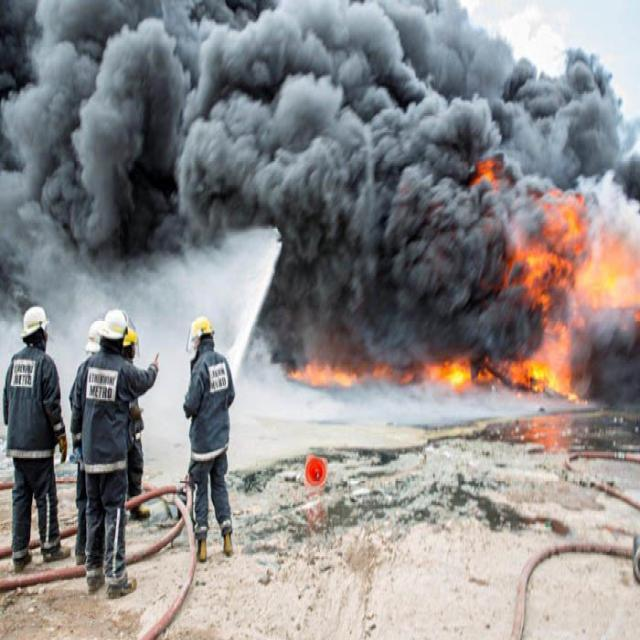Fire: (531, 191, 632, 309), (511, 356, 571, 398), (288, 361, 357, 389), (432, 357, 472, 388)
Smoke: (0, 0, 640, 407)
